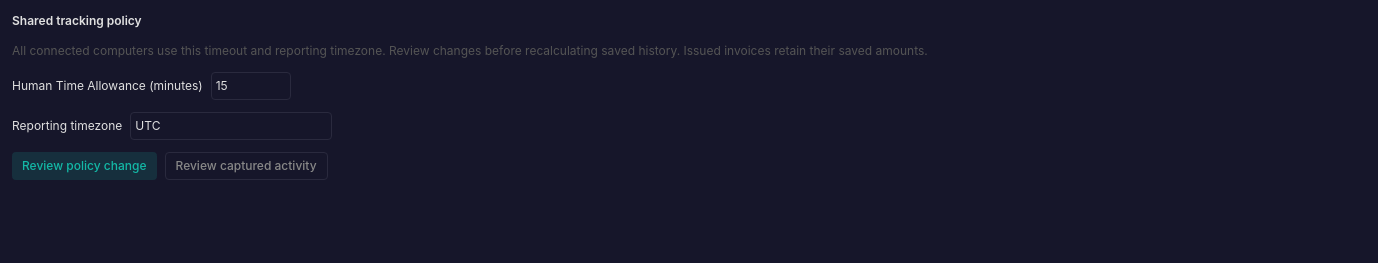
Test case: discards stale approval and never reports success when application is rejected
This screenshot has width=1378, height=263.
Replace the text in the number field named "Shared human time allowance" with "5": (251, 86) [211,72,291,100]
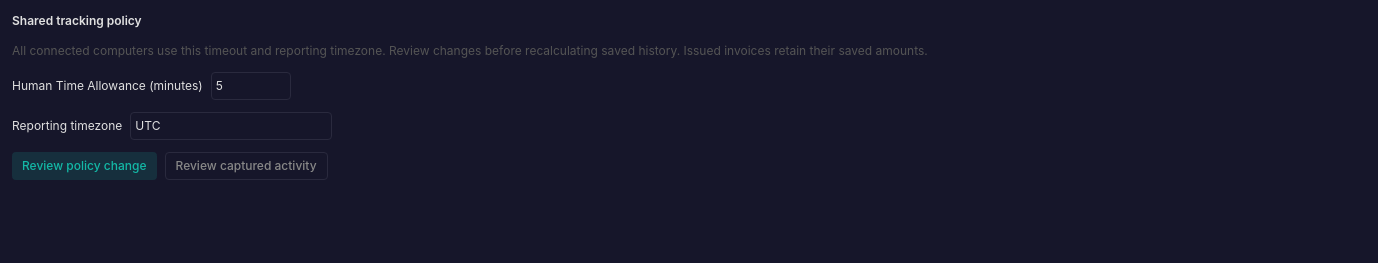
Click the button "Review policy change": (84, 166) [12,152,156,180]
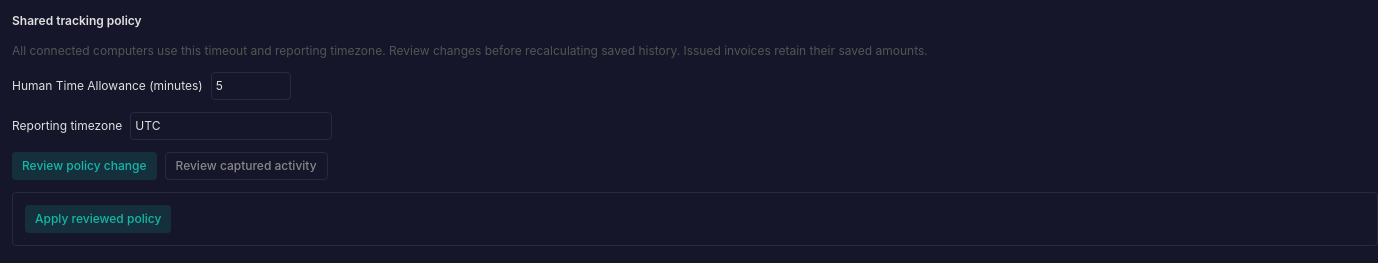
Expected: the button "Apply reviewed policy" is shown
Click the button "Apply reviewed policy": (98, 219) [25,205,171,233]
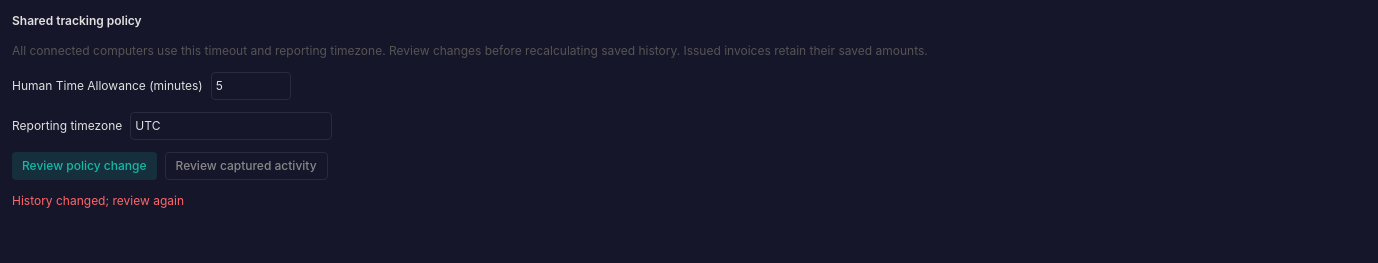
Expected: the message reads "History changed; review again", [12,193,184,208]
Expected: the button "Apply reviewed policy" is gone
